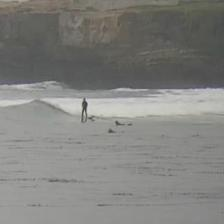surfer: (80, 98, 88, 119), (114, 121, 134, 126), (107, 128, 124, 133)
